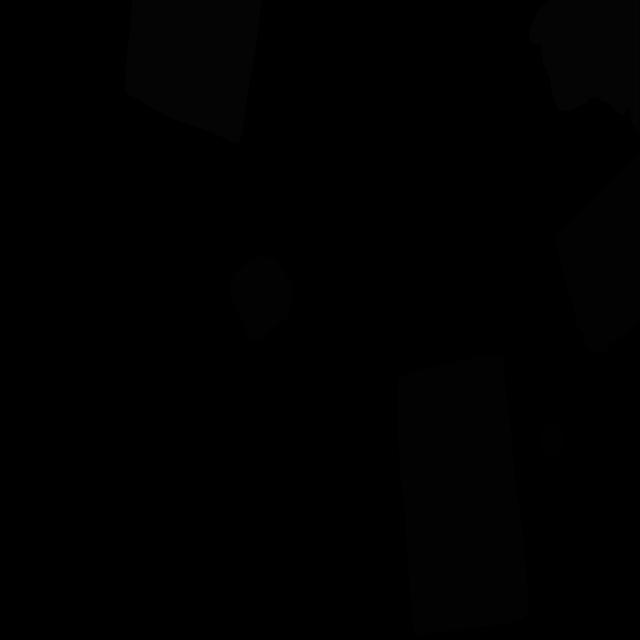cardboard: (397, 356, 530, 636), (556, 151, 640, 353), (229, 256, 294, 340)
rigid_plastic: (540, 421, 564, 459)
soft_plastic: (126, 0, 262, 144), (529, 0, 640, 137)
